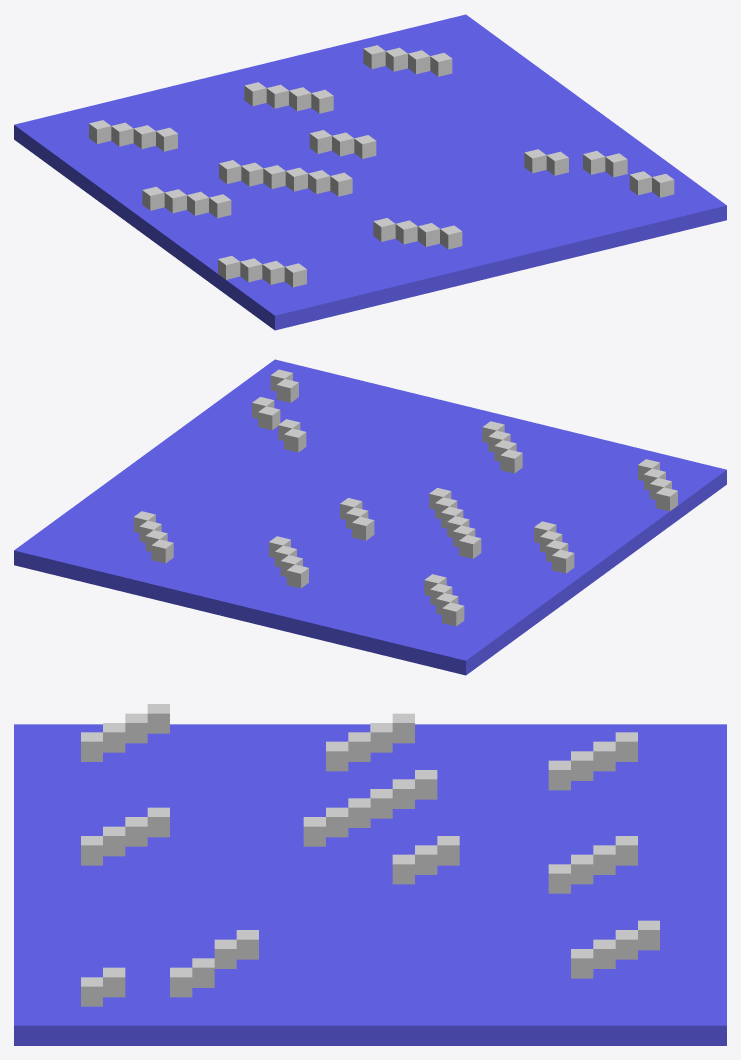
Rendered from water5.obj.
3 renders of one model, top to bottom at view 1: azimuth 30°, elevation 25°; view 2: azimuth 150°, elevation 25°; view 3: azimuth 270°, elevation 25°, orthographic. The views are drawn at different scales.
Bounding box in the file's own units: 32 × 2 × 32.
1 material, 1 textured.
